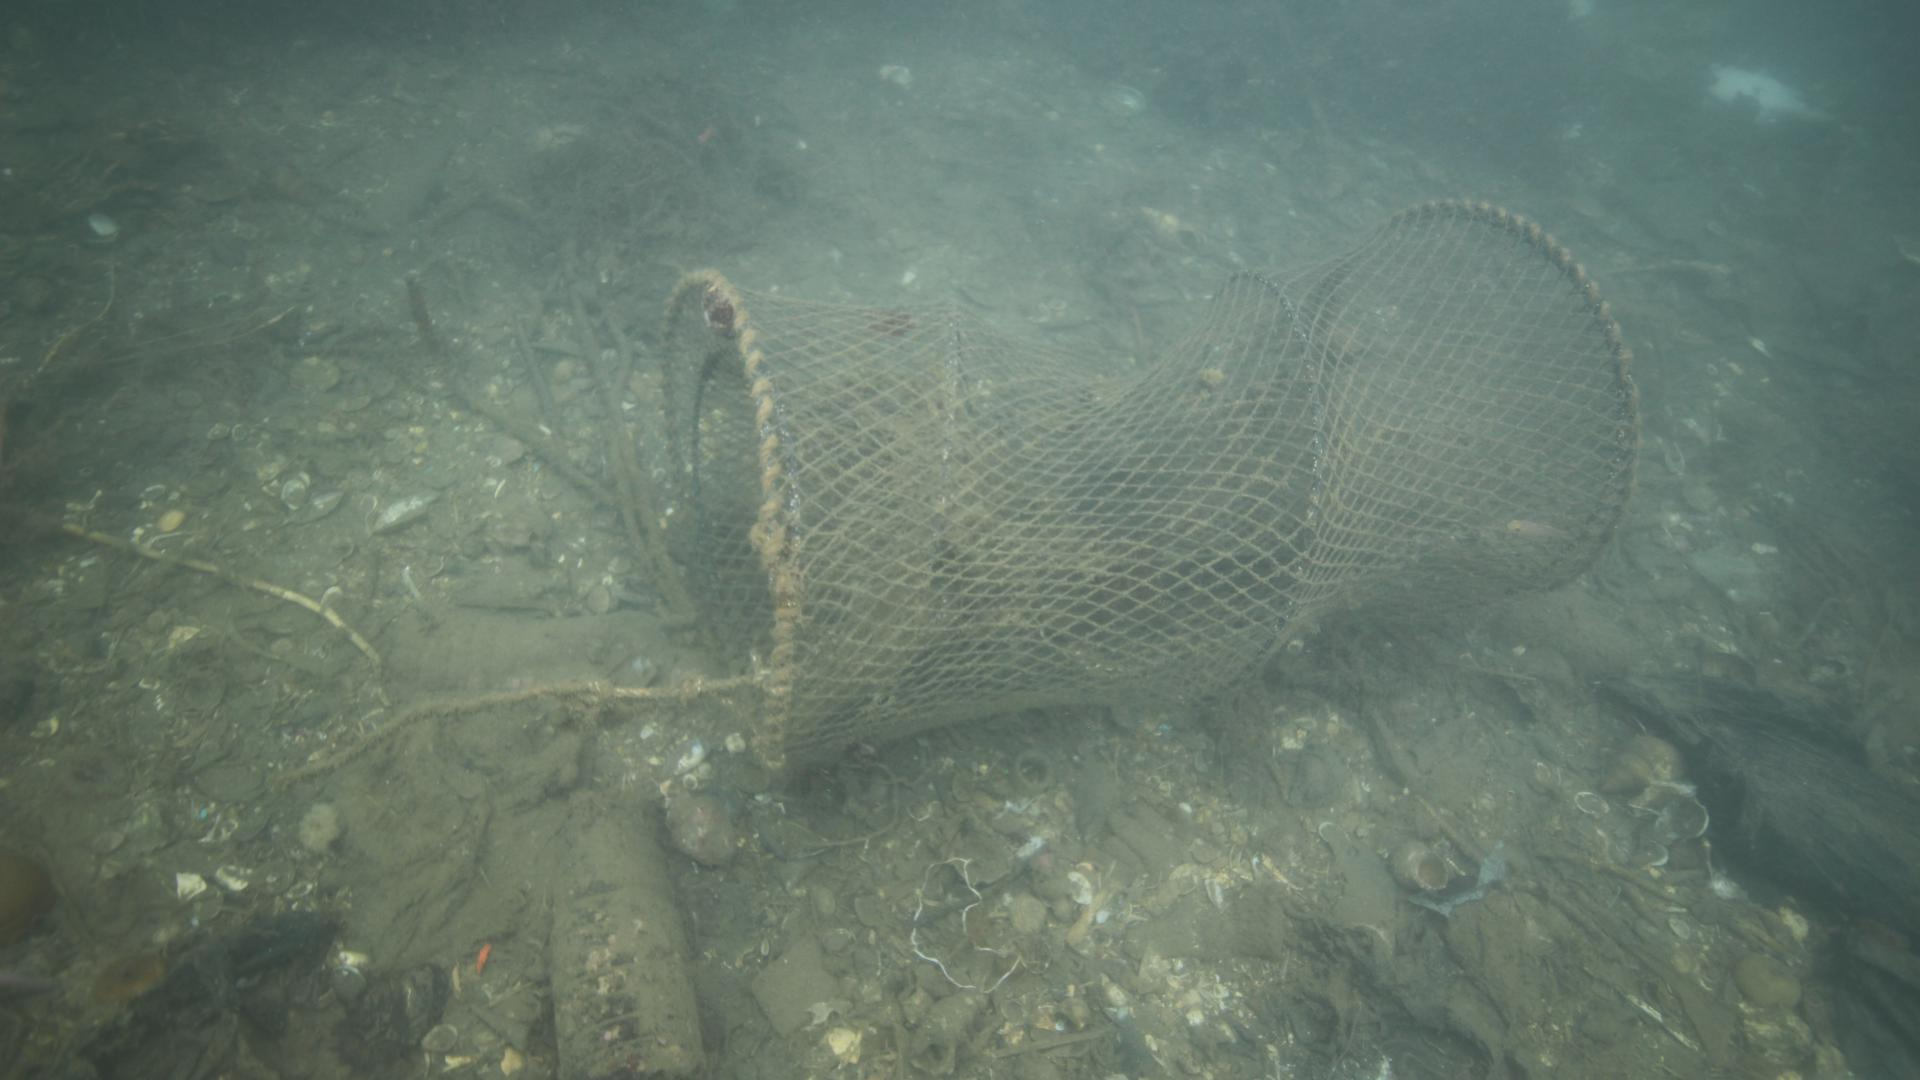spring fish trap: (655, 196, 1644, 771)
